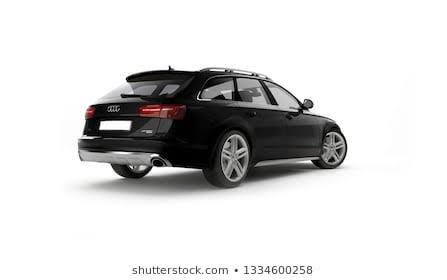audi: (76, 60, 351, 191)
